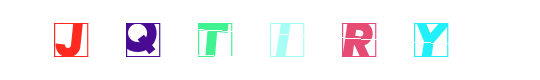I: (242, 0, 322, 80)
J: (31, 0, 111, 80)
Q: (103, 0, 183, 80)
R: (286, 0, 366, 80)
T: (231, 0, 311, 80)
Y: (301, 0, 381, 80)
